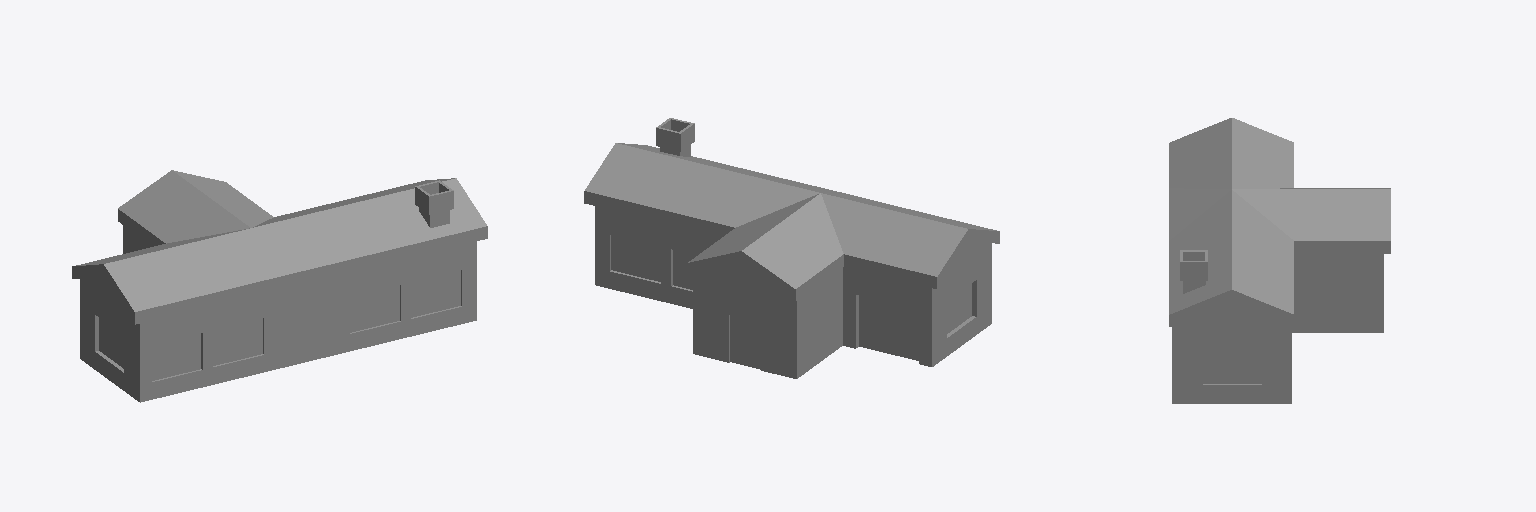
Rendered from BigHouse.obj.
The picture shows the model from 3 angles: view 1: azimuth 30°, elevation 25°; view 2: azimuth 150°, elevation 25°; view 3: azimuth 270°, elevation 25°; orthographic projection.
Visible parts, largest first — view 1: Cube.004; view 2: Cube.004; view 3: Cube.004.
Part boxes in pixels (x1,y1,x2,y2): Cube.004: (72, 170, 487, 402); Cube.004: (584, 118, 999, 378); Cube.004: (1169, 118, 1390, 403).
Bounding box in the file's own units: 6.81 × 2.43 × 3.7.